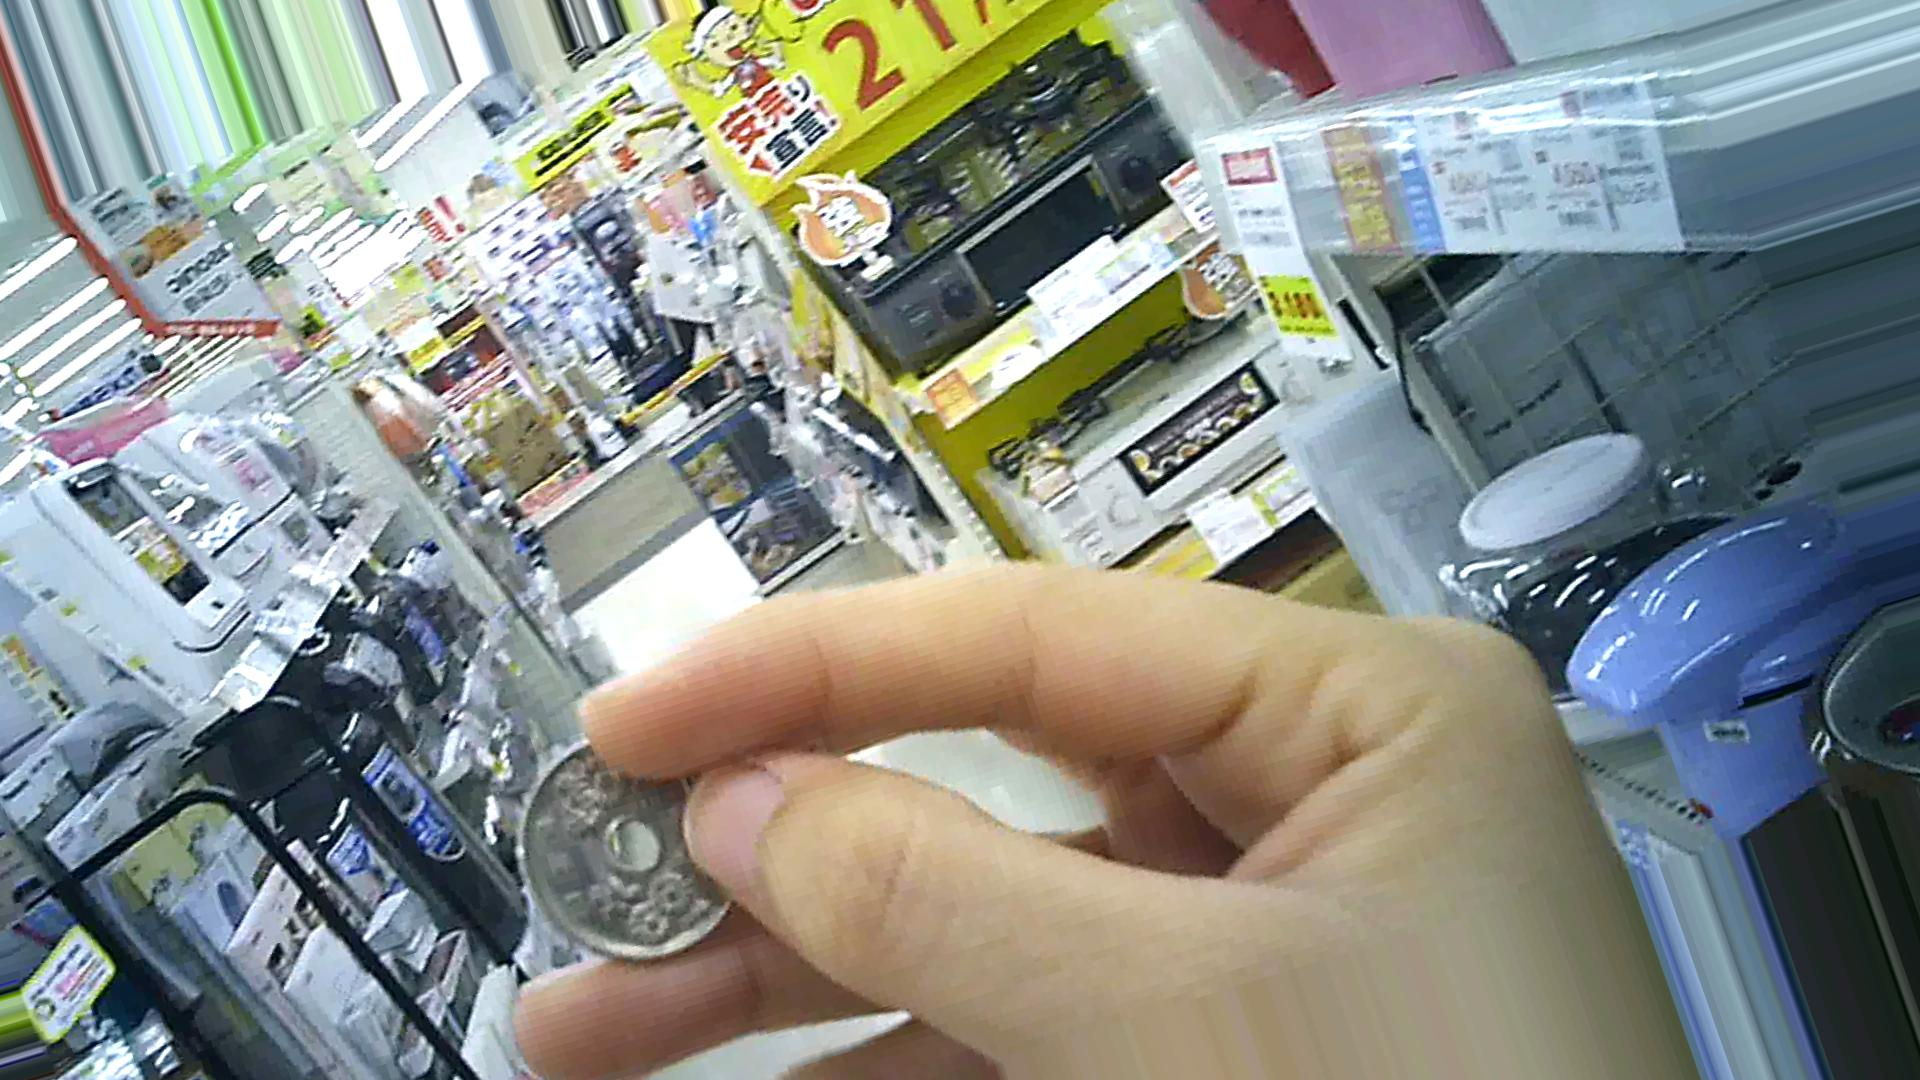50 Yen: (501, 721, 752, 947)
